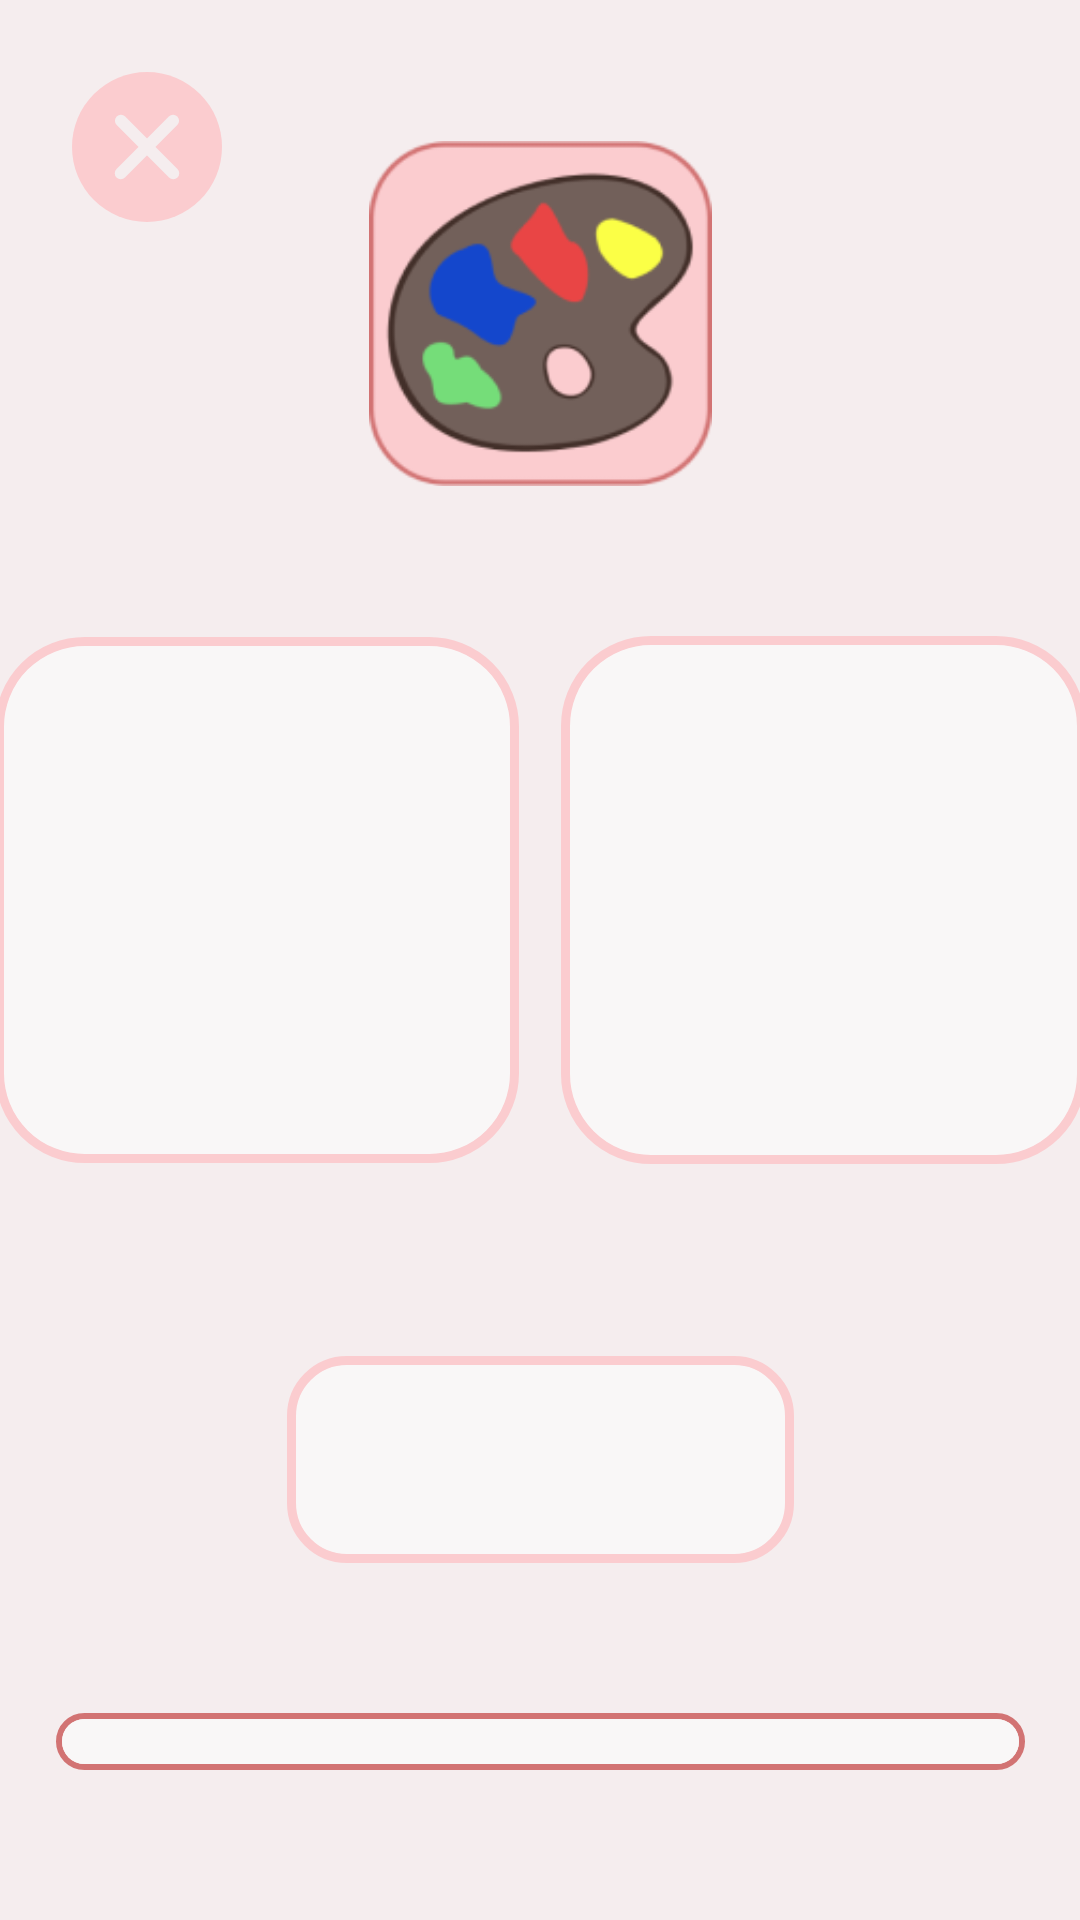

Where to tap for icons on this 1080×1920 app screen, as (x,y):
colorgameicon: (540,313)
colourgameexit: (147,147)
